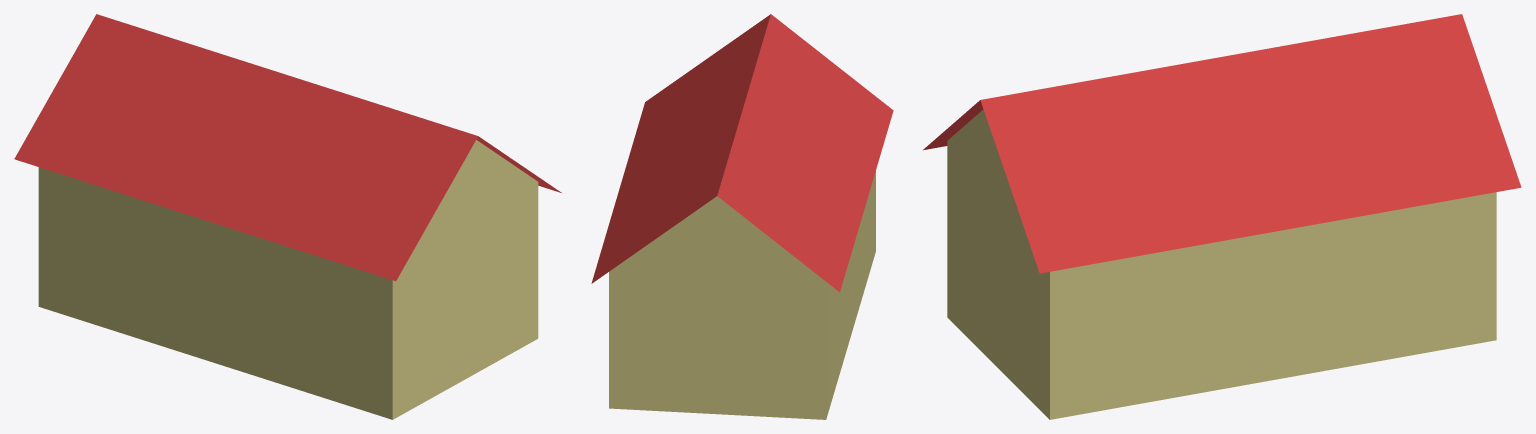
The picture shows the model from 3 angles, left to right: view 1: azimuth 30°, elevation 25°; view 2: azimuth 150°, elevation 25°; view 3: azimuth 270°, elevation 25°; orthographic projection. The views are drawn at different scales.
Size of the model in its own units: 25.37 by 31.57 by 15.76.
